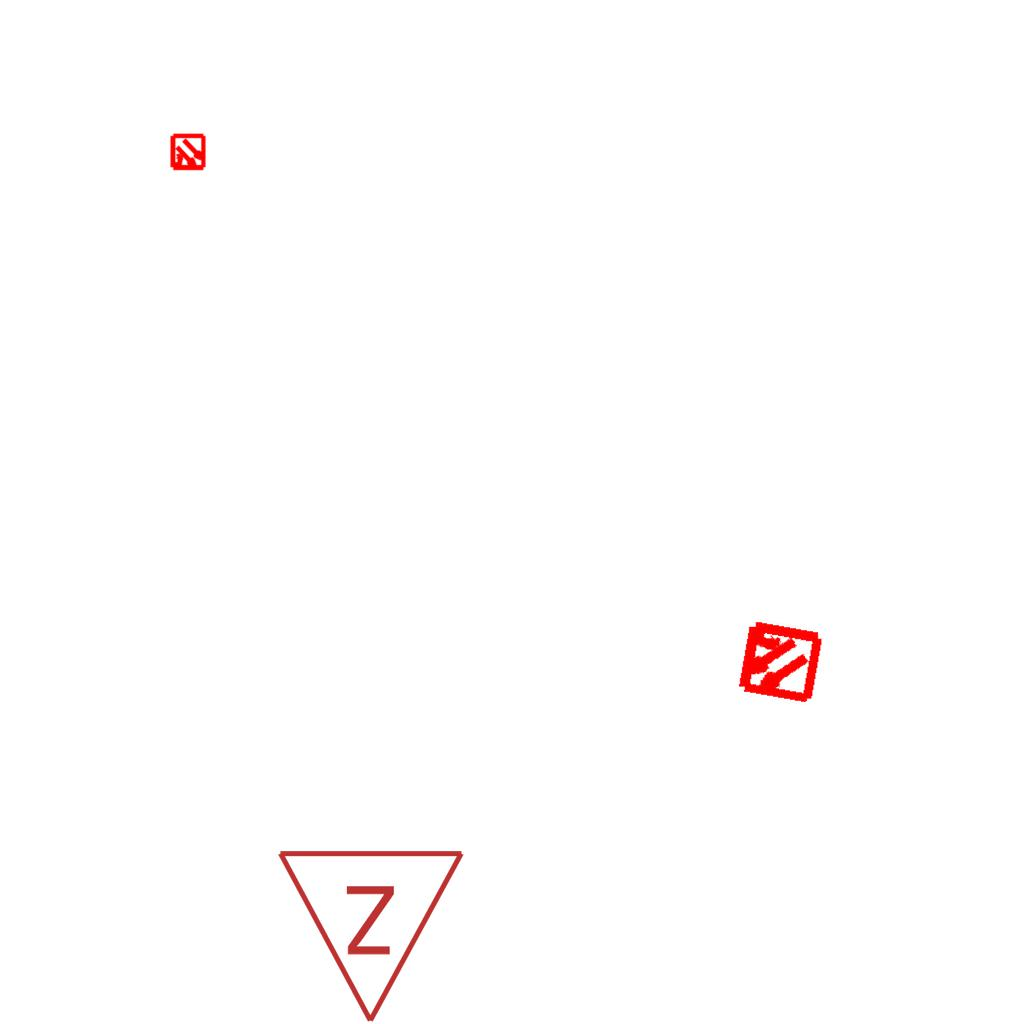OT_Multisensormelder_(Kombination_RMO_WMD): (713, 596, 844, 727), (160, 125, 216, 181)
Zimmersignalleuchte: (275, 836, 471, 1024)
